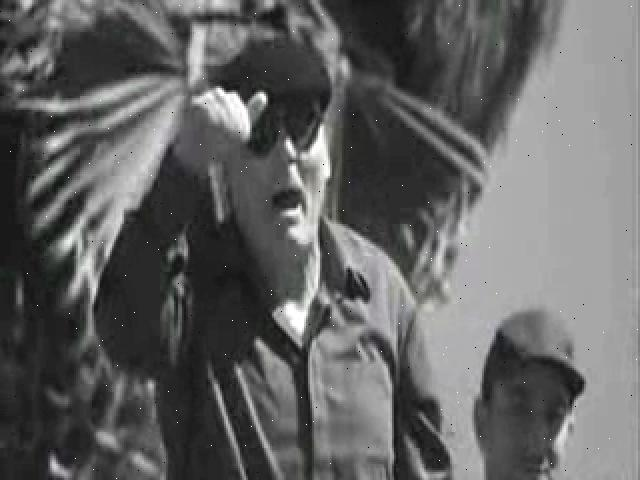T: (98, 29, 461, 479)
